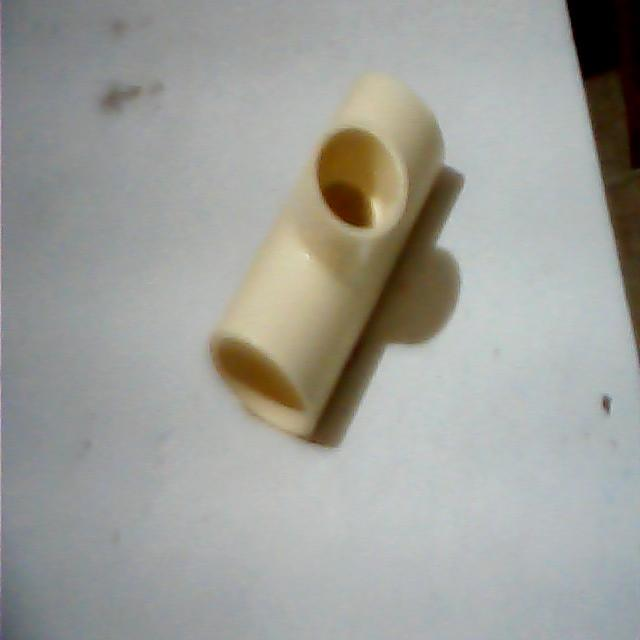T Joint: (209, 73, 446, 435)
